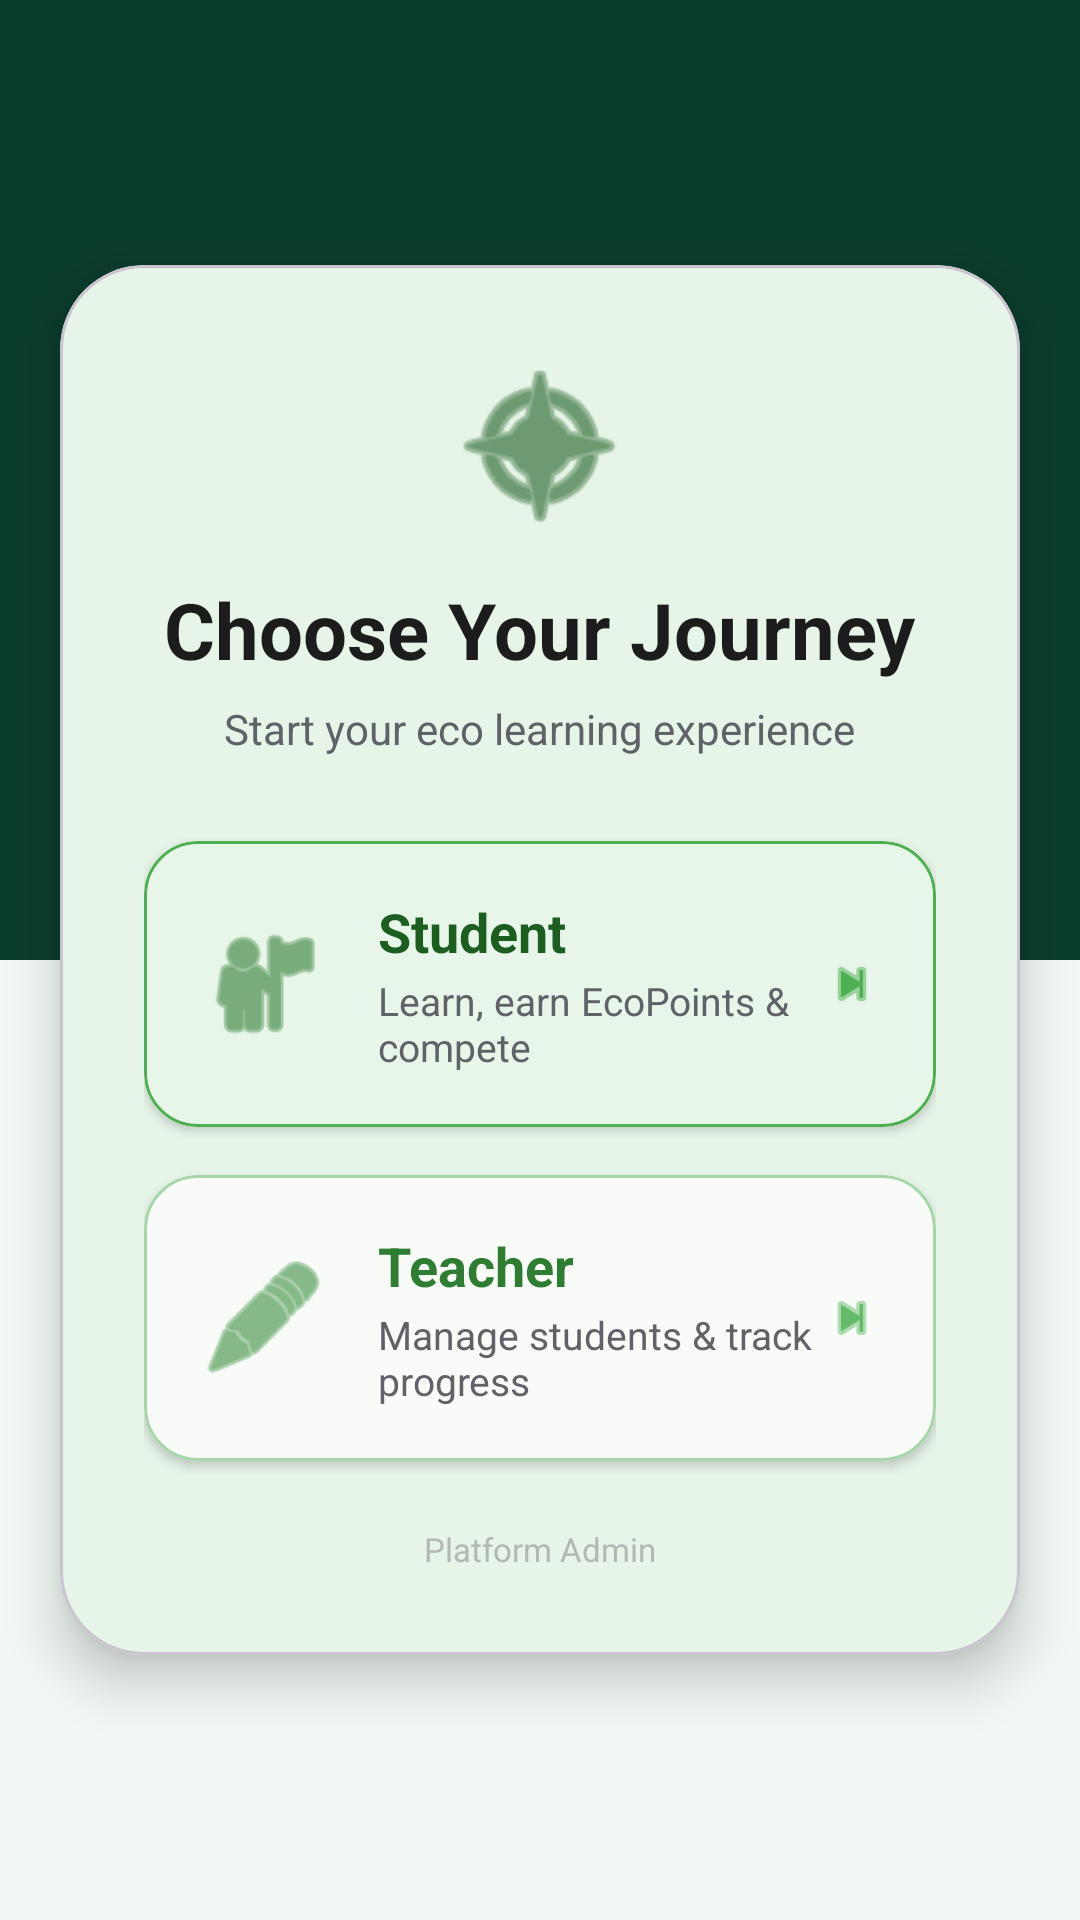

Where to tap for icons on this 1080 × 1920 app screen, as point (x, y):
compass: point (539, 446)
edit: point (263, 1317)
next: point (852, 984), point (852, 1318)
